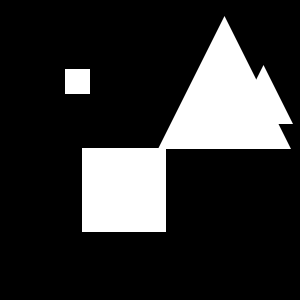circle: (82, 148, 166, 232), (65, 69, 90, 94), (127, 201, 151, 225)
triangle: (158, 16, 291, 149), (234, 65, 293, 124)
